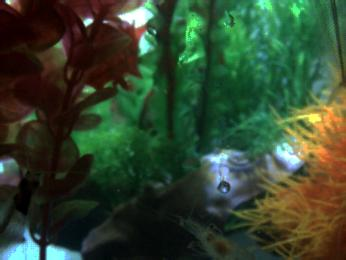glassfish: (306, 1, 346, 109), (1, 168, 46, 260)
siberian prawn: (170, 214, 266, 260)
